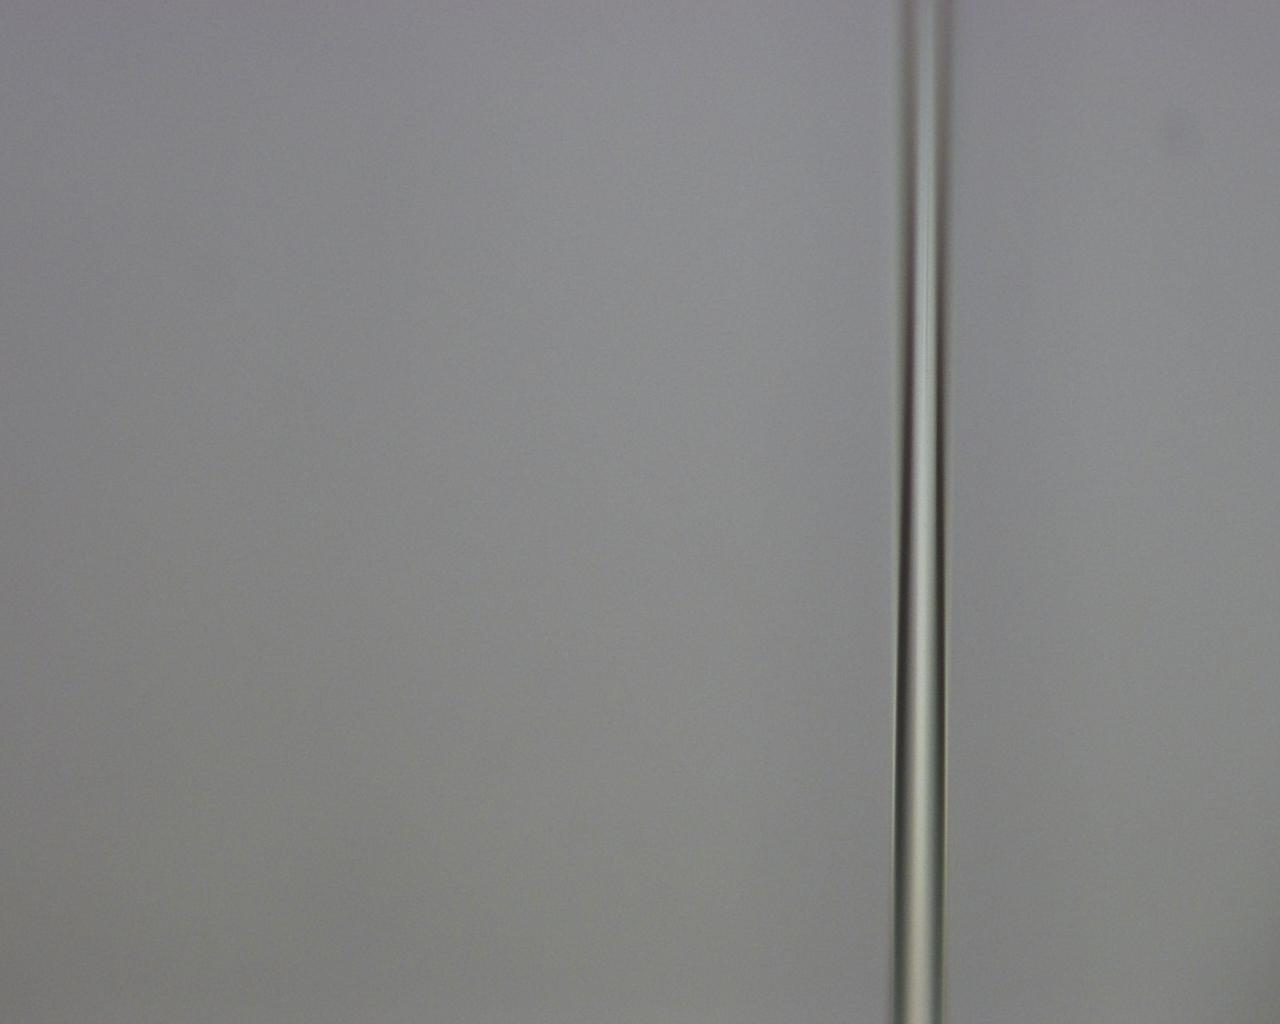fiber: (499, 0, 965, 378), (832, 460, 995, 1024), (246, 460, 342, 1024), (30, 0, 48, 460)
